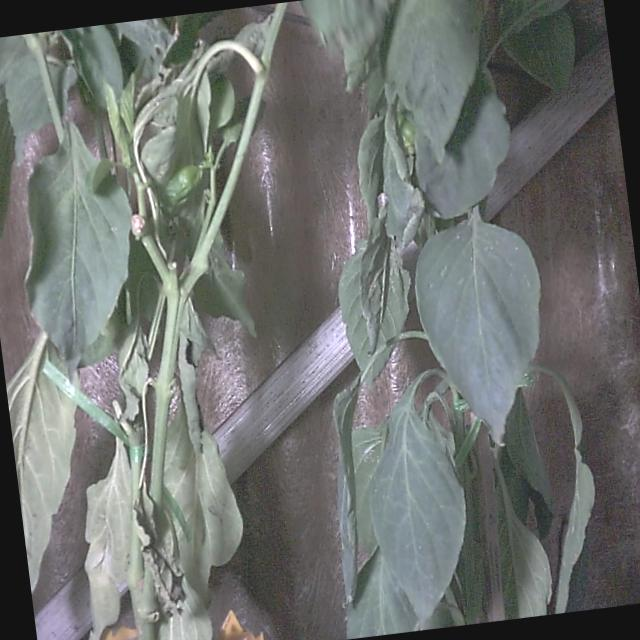Leaf: (404, 207, 560, 454), (5, 121, 149, 378), (356, 394, 481, 624), (363, 0, 496, 171)
